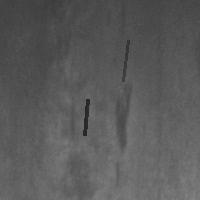inclusion: (109, 75, 139, 160), (61, 88, 83, 149), (121, 38, 130, 83), (82, 97, 89, 137)
